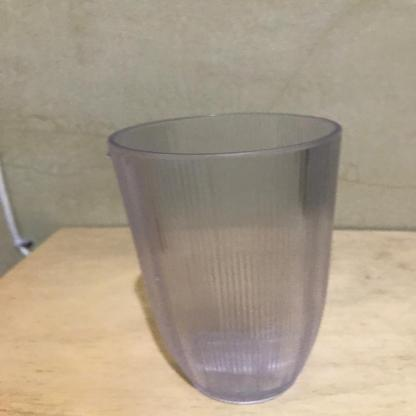glass: (96, 101, 346, 404)
